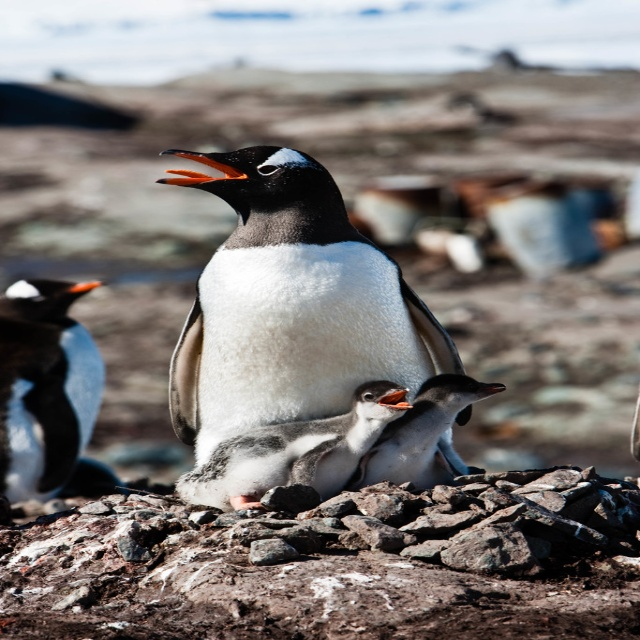Penguin: (137, 134, 494, 516), (159, 377, 417, 522), (0, 277, 107, 490), (346, 370, 515, 490)
